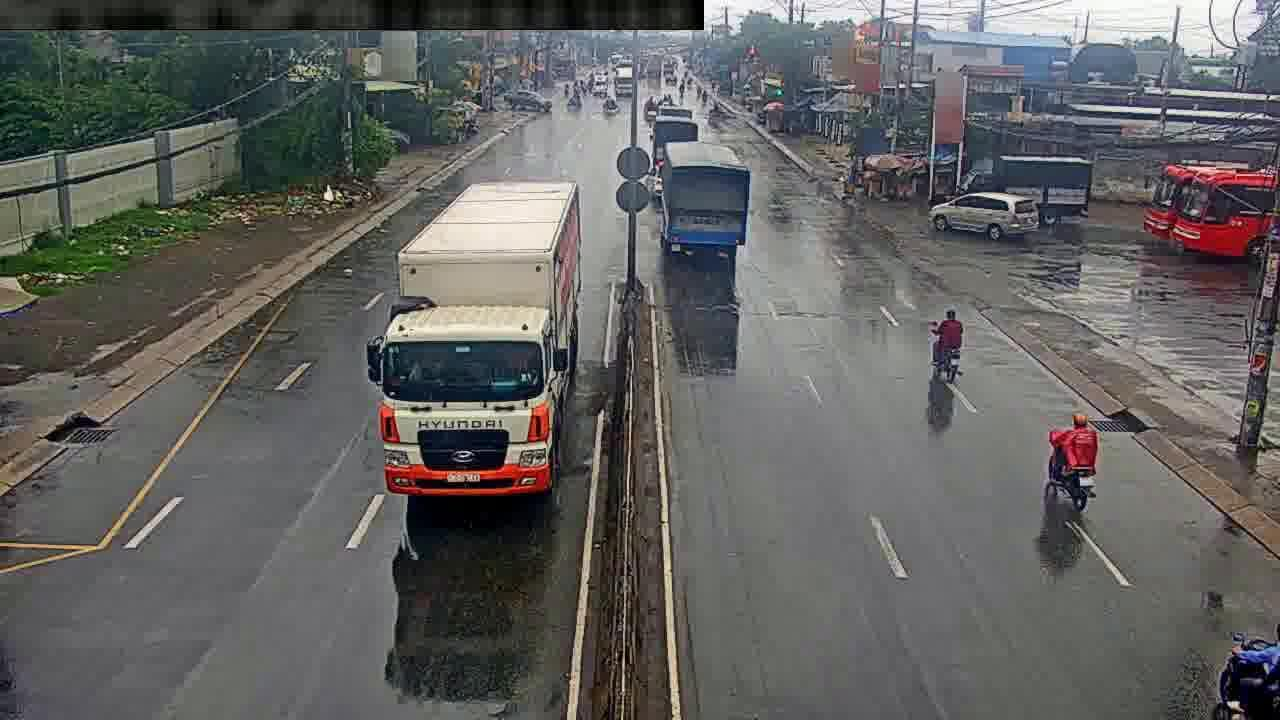8: (375, 173, 588, 494), (662, 151, 746, 253)
motorbike: (1213, 611, 1277, 720), (1051, 406, 1097, 520), (931, 301, 964, 382)
